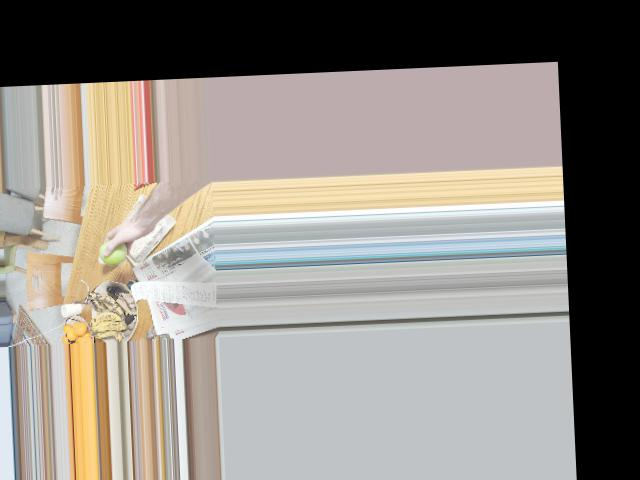apple: (97, 235, 130, 263)
